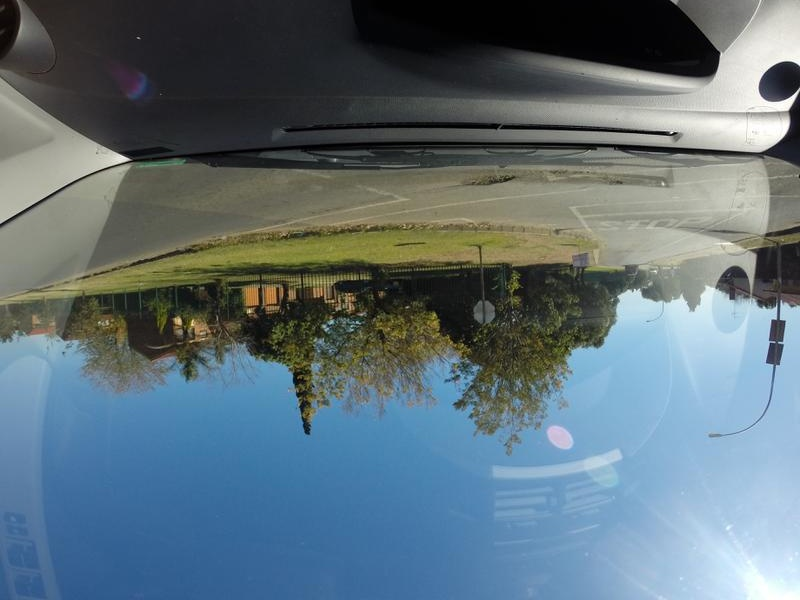pothole: (462, 172, 523, 189)
